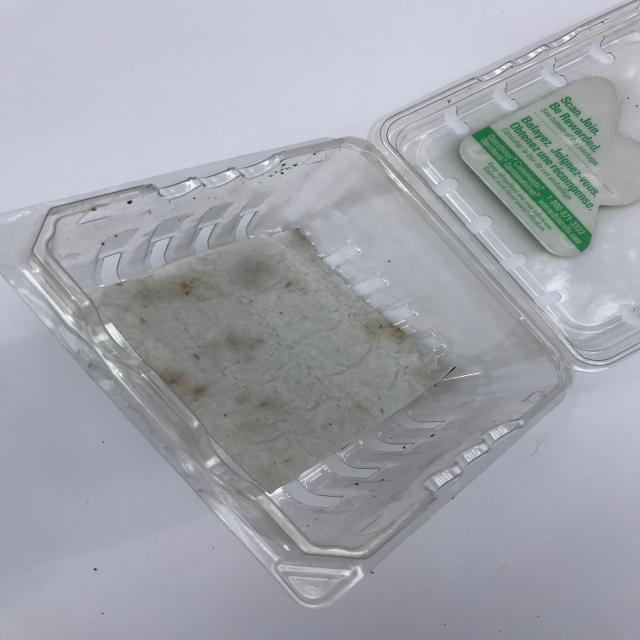plastic: (5, 2, 640, 608)
